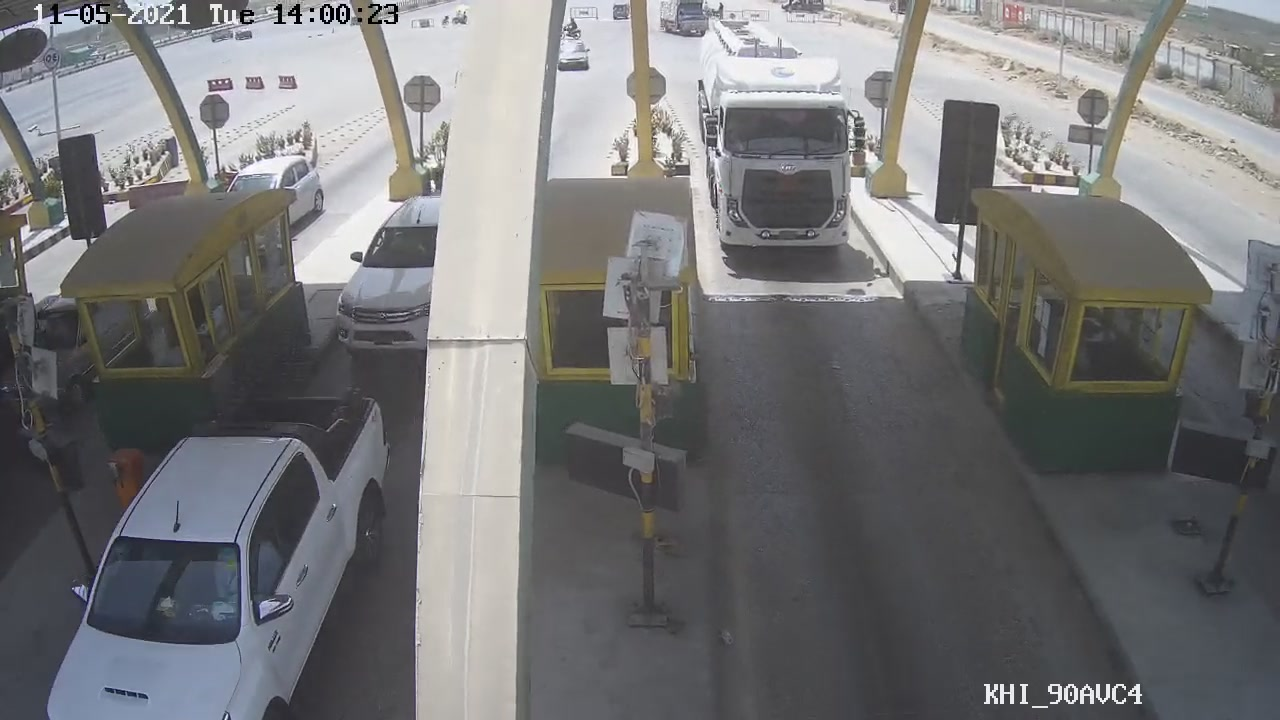F6: (701, 40, 877, 259)
